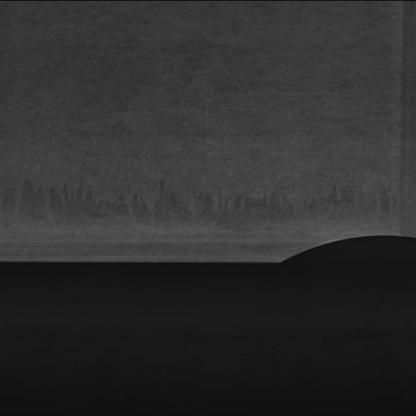crescent_gap: (250, 221, 416, 270)
